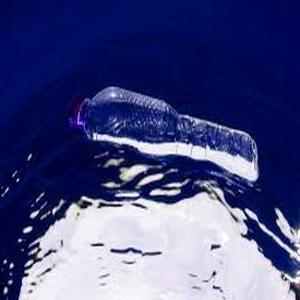Plastic: (62, 79, 257, 199)
